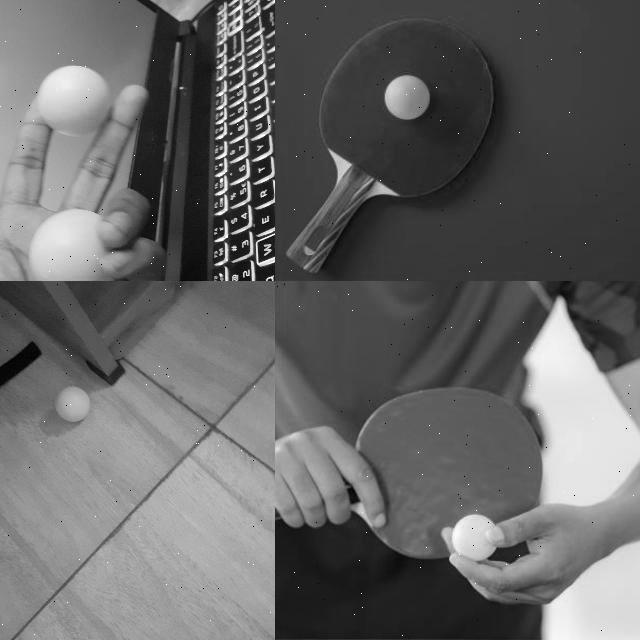ping-pong-ball: (31, 209, 111, 280), (37, 67, 109, 133), (454, 514, 496, 560), (386, 76, 428, 118), (56, 387, 88, 421)
